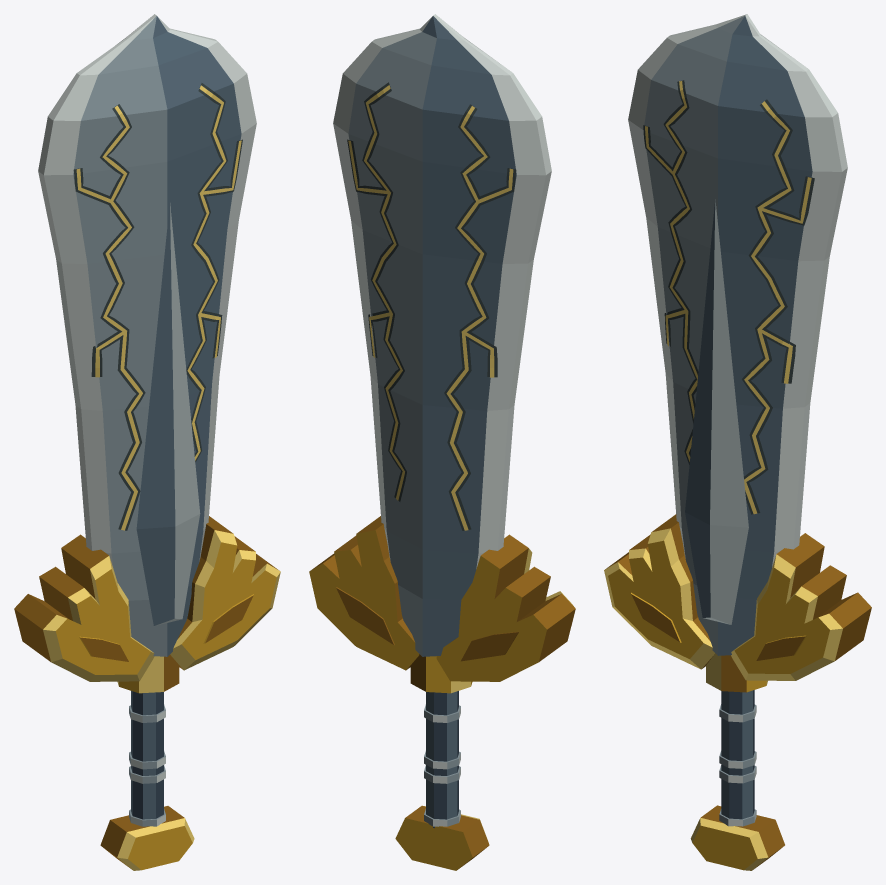
Rendered from knight-reference-claymore.glb.
3 views of the same model, side by side, from view 1: azimuth 30°, elevation 25°; view 2: azimuth 150°, elevation 25°; view 3: azimuth 330°, elevation 25° (orthographic).
Visible parts, largest first — view 1: Weapon_Cutlass_Geometry; view 2: Weapon_Cutlass_Geometry; view 3: Weapon_Cutlass_Geometry.
Boxes of the visible parts, box(x1,y1,x2,y2) form: Weapon_Cutlass_Geometry: box(14, 14, 280, 870); Weapon_Cutlass_Geometry: box(309, 14, 575, 870); Weapon_Cutlass_Geometry: box(604, 14, 871, 870).
Size of the model in its own units: 0.86 by 2.91 by 0.3.
